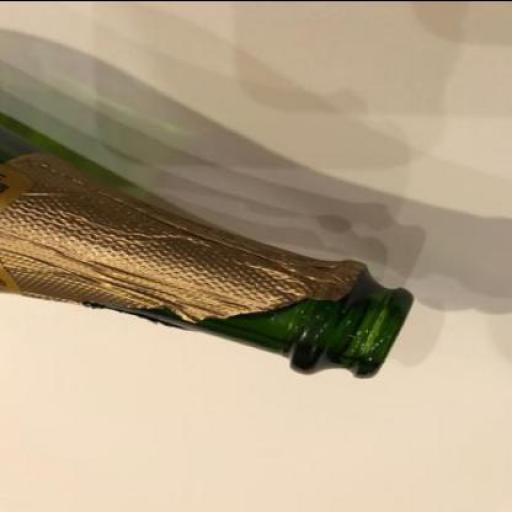glass: (0, 110, 412, 379)
